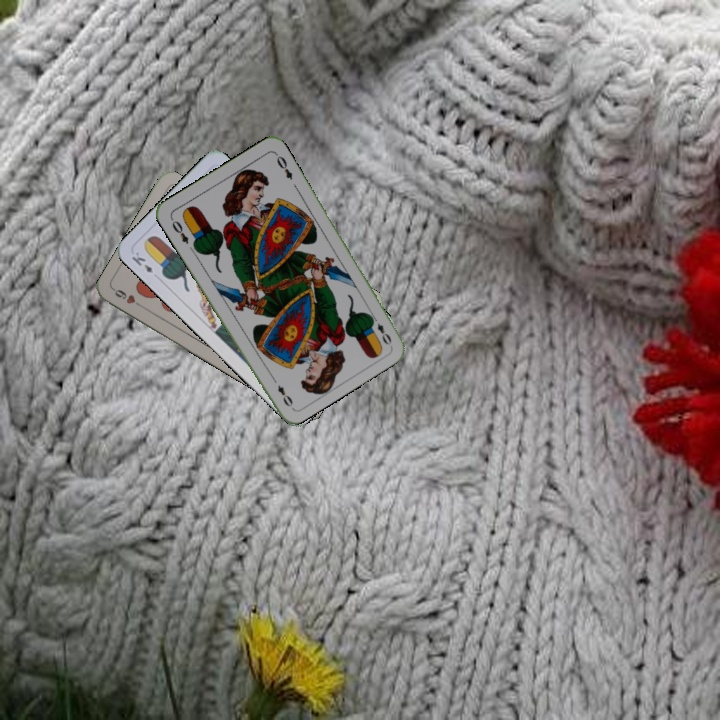EK: (128, 247, 156, 275)
EO: (367, 311, 394, 348), (167, 214, 191, 246)
H9: (109, 285, 146, 310)
